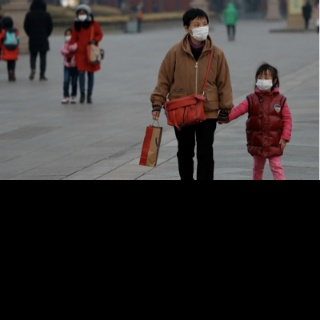with_mask: (188, 20, 208, 40), (254, 75, 273, 92), (76, 11, 88, 21), (64, 32, 72, 40)
